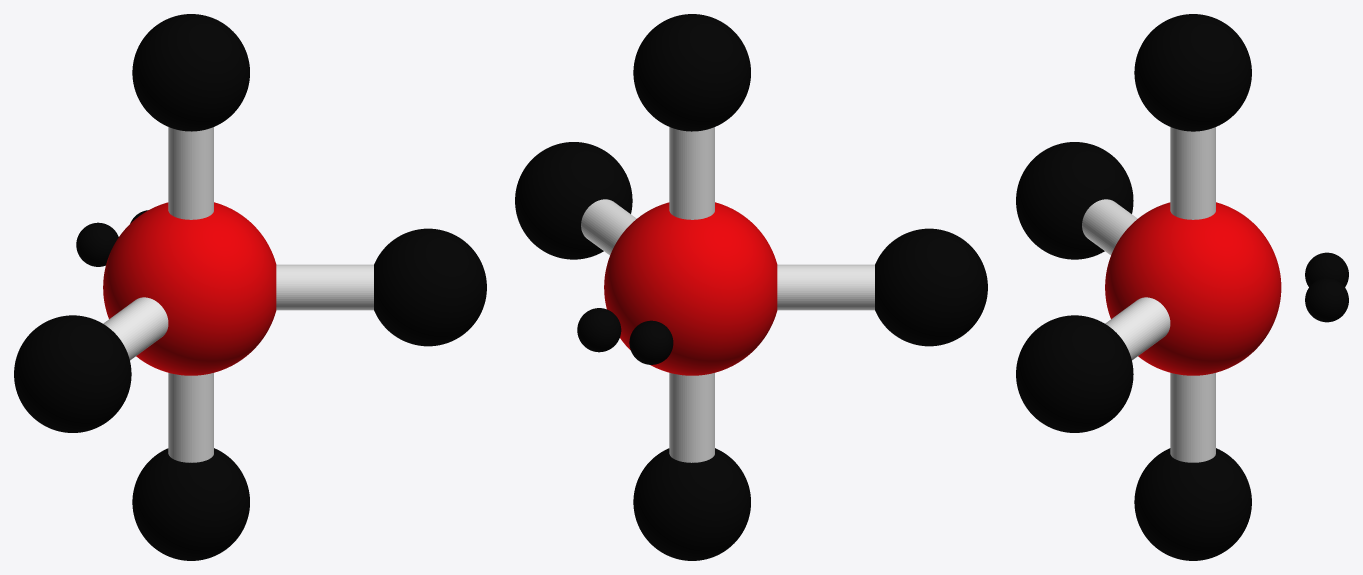
File: seesaw.glb
3 views of the same model, side by side, from view 1: azimuth 30°, elevation 25°; view 2: azimuth 150°, elevation 25°; view 3: azimuth 270°, elevation 25° (orthographic).
Visible parts, largest first — view 1: Sphere, Sphere.001, Sphere.002, Sphere.004, Sphere.003, Sphere.005; view 2: Sphere, Sphere.003, Sphere.002, Sphere.004, Sphere.001, Sphere.005; view 3: Sphere, Sphere.002, Sphere.004, Sphere.001, Sphere.003, Sphere.005.
Part boxes in pixels (x1,y1,x2,y2): Sphere: (103, 202, 276, 375); Sphere.001: (276, 228, 486, 346); Sphere.002: (132, 14, 249, 219); Sphere.004: (132, 373, 249, 560); Sphere.003: (14, 297, 168, 432); Sphere.005: (76, 210, 148, 266); Sphere: (604, 202, 777, 375); Sphere.003: (777, 228, 987, 346); Sphere.002: (633, 14, 750, 219); Sphere.004: (633, 373, 750, 560); Sphere.001: (515, 142, 636, 259); Sphere.005: (577, 308, 673, 364); Sphere: (1105, 202, 1281, 375); Sphere.002: (1134, 14, 1251, 219); Sphere.004: (1134, 373, 1251, 560); Sphere.001: (1016, 297, 1170, 432); Sphere.003: (1016, 142, 1137, 259); Sphere.005: (1305, 252, 1348, 322).
Size of the model in its own units: 8.91 by 9.98 by 5.62.
